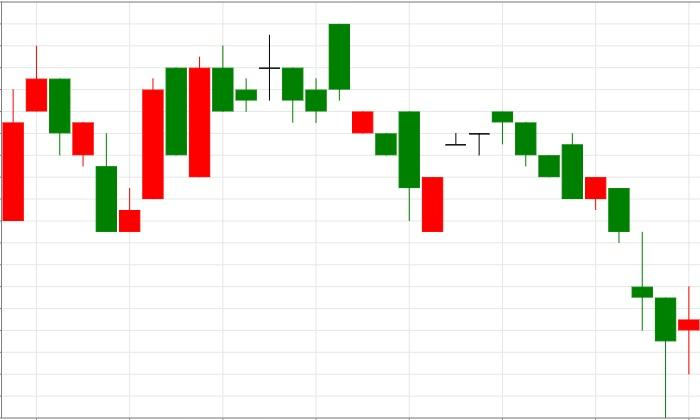hammer_rise: (492, 111, 677, 418)
